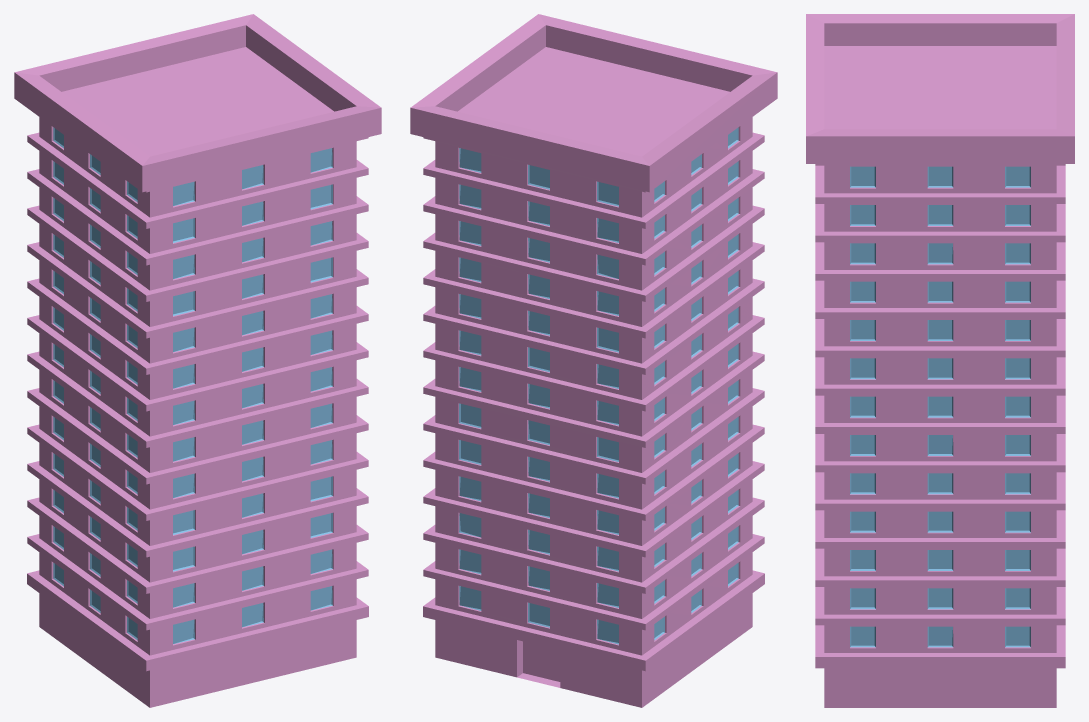
File: Pink Medium.fbx
3 views of the same model, side by side, from view 1: azimuth 30°, elevation 25°; view 2: azimuth 150°, elevation 25°; view 3: azimuth 270°, elevation 25° (orthographic). The views are drawn at different scales.
Parts seen in each view (by area): view 1: Pink Medium; view 2: Pink Medium; view 3: Pink Medium.
Boxes of the visible parts, left/top/right/bottom form: Pink Medium: left=14, top=14, right=381, bottom=707; Pink Medium: left=410, top=14, right=777, bottom=707; Pink Medium: left=806, top=14, right=1074, bottom=707.
Bounding box in the file's own units: 9.97 × 22.01 × 9.25.
